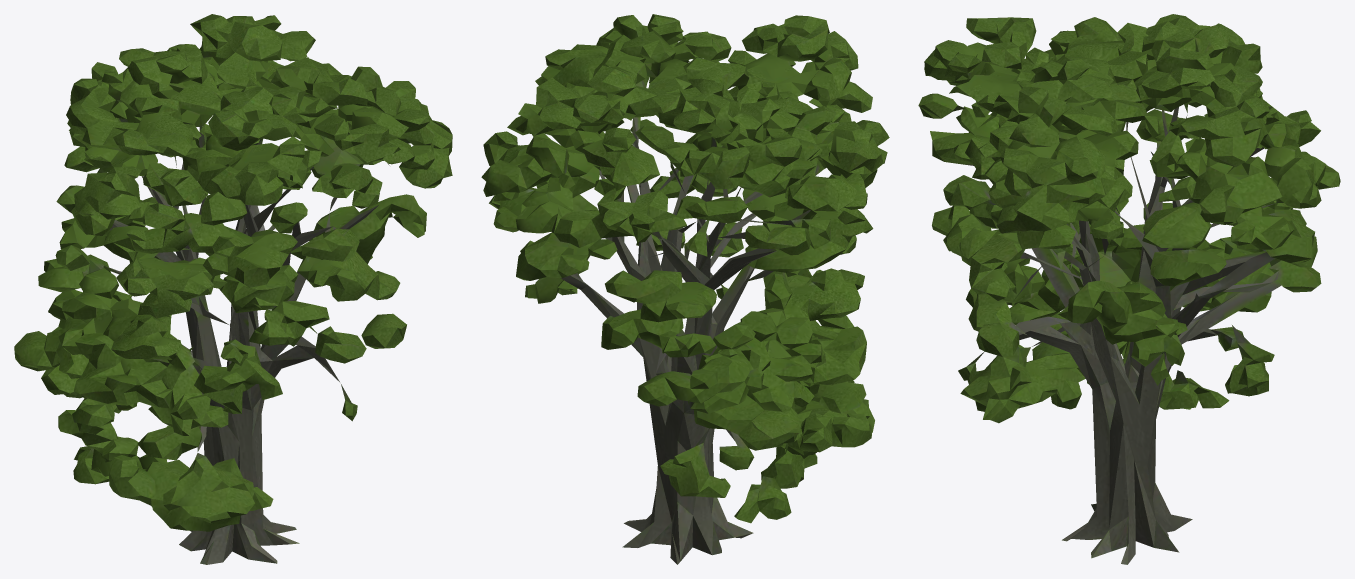
File: tree.glb
3 views of the same model, side by side, from view 1: azimuth 30°, elevation 25°; view 2: azimuth 150°, elevation 25°; view 3: azimuth 270°, elevation 25° (orthographic).
Parts seen in each view (by area): view 1: output_unwrapped; view 2: output_unwrapped; view 3: output_unwrapped.
Boxes of the visible parts, x1,y1,x2,y2 form: output_unwrapped: (14, 14, 452, 564); output_unwrapped: (481, 14, 889, 564); output_unwrapped: (918, 14, 1340, 564).
Bounding box in the file's own units: 1.41 × 1.89 × 1.46.
1 material, 1 textured.
